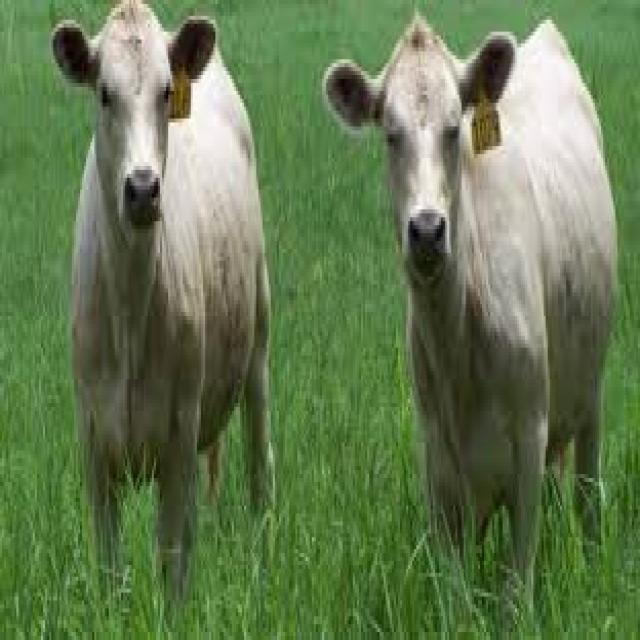cowFace: (318, 32, 521, 320), (43, 8, 224, 249)
